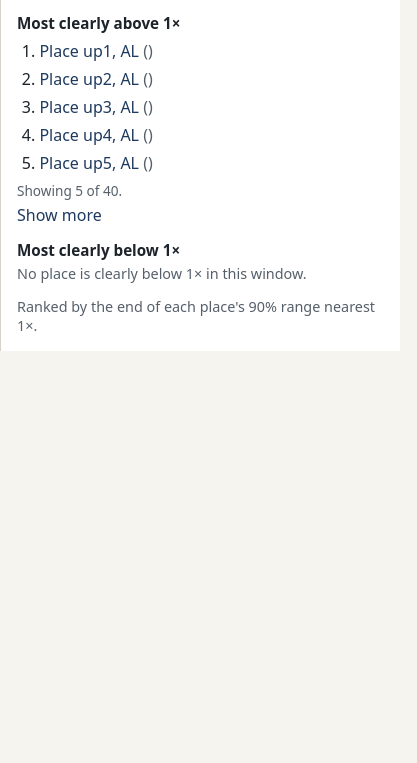
Test: Clearest differences: Show more › stops at 25 and points to the table
The image size is (417, 763).
Click the button "Show more" at (59, 215), box [17,202,102,228]
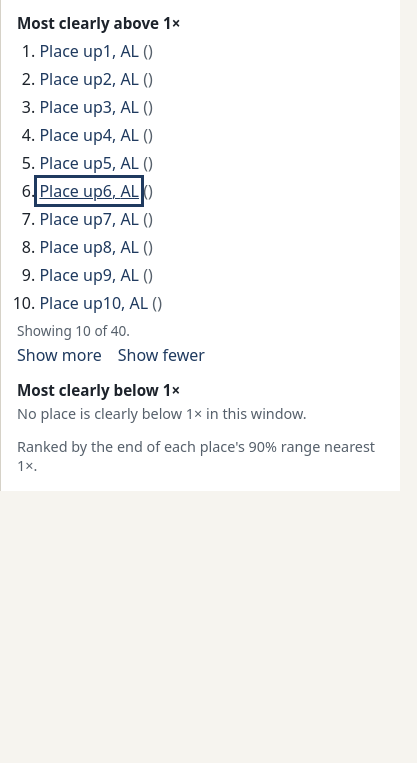
Click the button "Show more" at (59, 355), box [17,342,102,368]
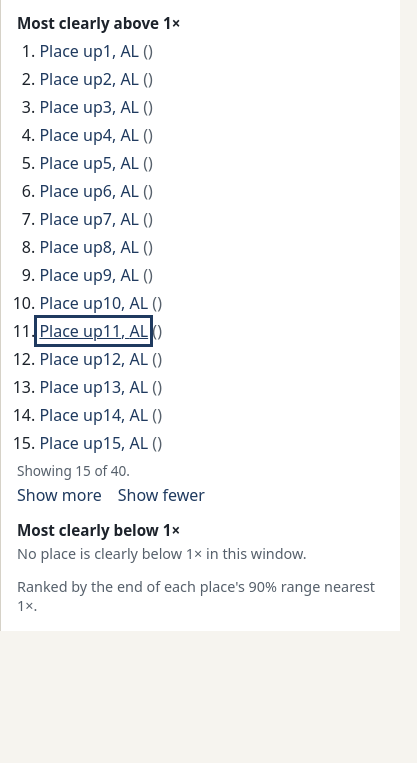
Click the button "Show more" at (59, 495), box [17,482,102,508]
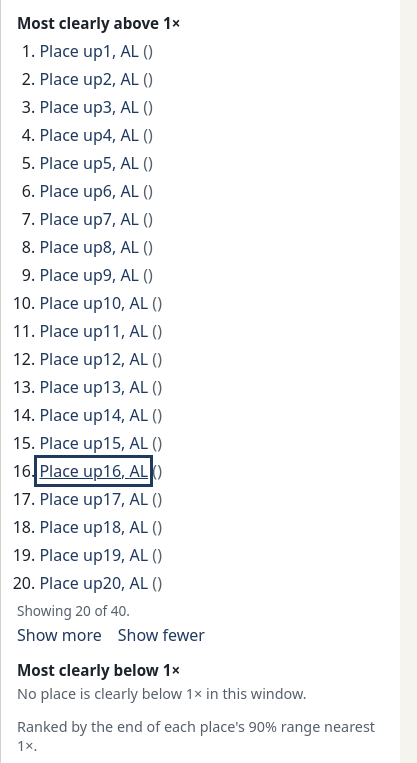
Click the button "Show more" at (59, 635), box [17,622,102,648]
(page scrolled)
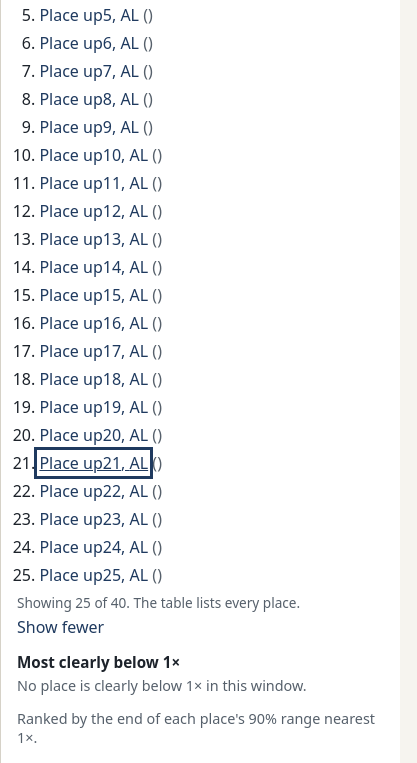
Now the button "Show fewer" is shown, box [17,614,104,640]
Now the element "Most clearly above 1×" shows "Showing 25 of 40. The table lists every place.", box [17,593,300,612]
Now the button "Show more" is gone
